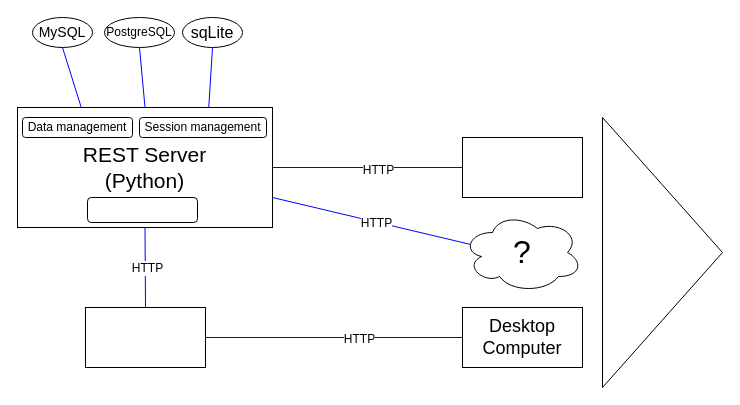
The diagram is 740 pixels wide and 405 high, and some of its shapes have lost their labels. Each missing label, with the centre of its shape:
"Android Device (Java)" belongs at (x=522, y=167).
"Application logic" belongs at (x=142, y=209).
"User" belongs at (x=662, y=252).
"Web Server (ASP.NET)" belongs at (x=145, y=337).
